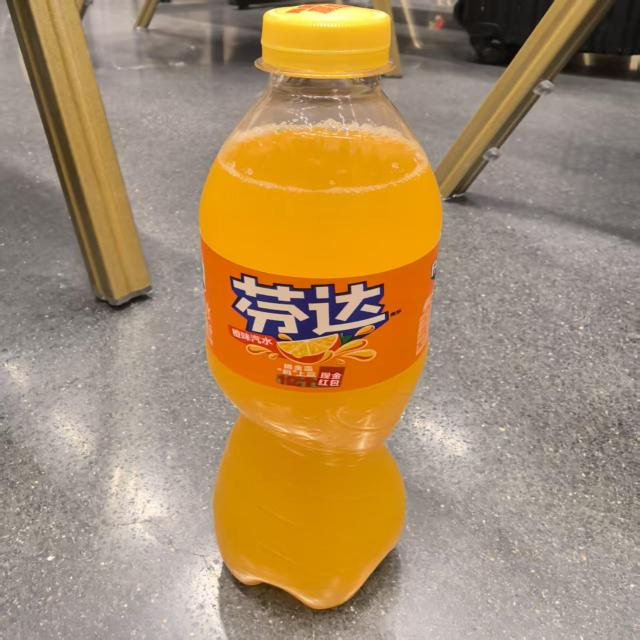orange: (218, 260, 395, 364)
